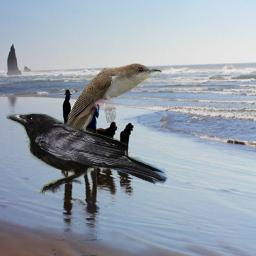Crow: (6, 112, 168, 195)
Cuckoo: (44, 63, 162, 152)
